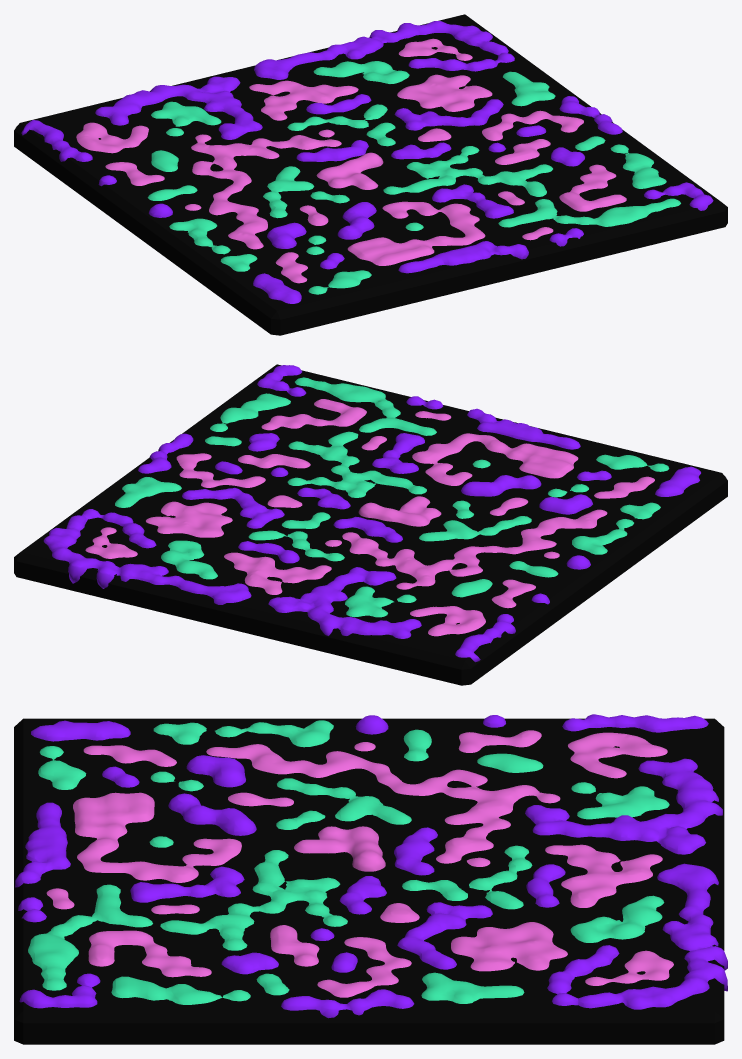
The model's file is ZEME.fbx.
3 views of the same model, one above another, from view 1: azimuth 30°, elevation 25°; view 2: azimuth 150°, elevation 25°; view 3: azimuth 270°, elevation 25° (orthographic). The views are drawn at different scales.
Parts seen in each view (by area): view 1: Plane, Mball.169, Mball.160, Mball.110; view 2: Plane, Mball.169, Mball.160, Mball.110; view 3: Plane, Mball.169, Mball.160, Mball.110.
Boxes of the visible parts, bbox=[...] form: Plane: bbox=[14, 14, 727, 335]; Mball.169: bbox=[21, 21, 713, 303]; Mball.160: bbox=[76, 38, 626, 283]; Mball.110: bbox=[147, 61, 680, 294]; Plane: bbox=[14, 364, 727, 685]; Mball.169: bbox=[43, 365, 700, 662]; Mball.160: bbox=[85, 399, 654, 636]; Mball.110: bbox=[115, 377, 669, 617]; Plane: bbox=[14, 718, 724, 1044]; Mball.169: bbox=[15, 714, 727, 1018]; Mball.160: bbox=[46, 730, 673, 997]; Mball.110: bbox=[28, 720, 669, 1004].
Size of the model in its own units: 4553 by 295 by 4569.
